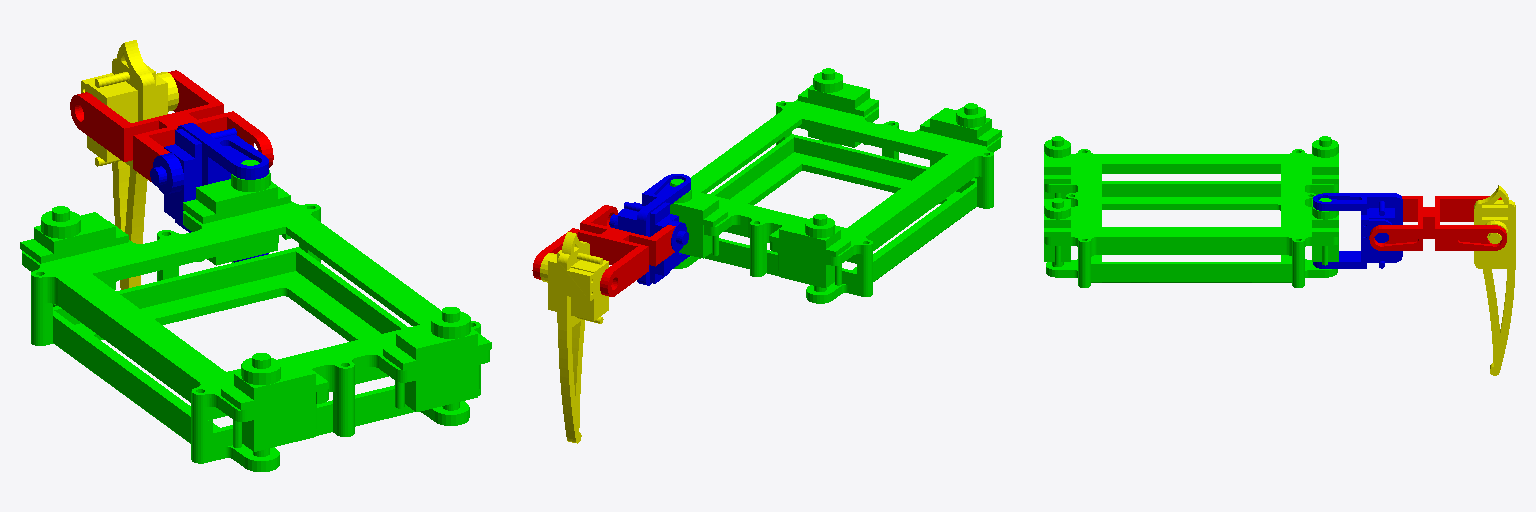
URDF robot description (spider_robot):
<?xml version="1.0"?>
<robot name="spider_robot">
    <!-- Looking from back of robot, left top is leg1
    right top is leg 2 left bottom is leg 3 and right bottom is leg 4-->
    <!-- not complete-->
    
    <gazebo reference="base_link">
        <material>Gazebo/Blue</material>
    </gazebo>

    <!-- colouring for leg 1 starts-->
    <gazebo reference="up_1">
        <material>Gazebo/Red</material>
    </gazebo>
    <gazebo reference="mid_1">
        <material>Gazebo/Yellow</material>
    </gazebo>
    <gazebo reference="low_1">
        <material>Gazebo/Green</material>
        <mu1>1</mu1>
        <mu2>1</mu2>
    </gazebo>

    <!-- colouring for leg 2 starts-->
    <gazebo reference="up_2">
        <material>Gazebo/Red</material>
    </gazebo>
    <gazebo reference="mid_2">
        <material>Gazebo/Yellow</material>
    </gazebo>
    <gazebo reference="low_2">
        <material>Gazebo/Green</material>
        <mu1>1</mu1>
        <mu2>1</mu2>
    </gazebo>

    <!-- colouring for leg 3 starts-->
    <gazebo reference="up_3">
        <material>Gazebo/Red</material>
    </gazebo>
    <gazebo reference="mid_3">
        <material>Gazebo/Yellow</material>
    </gazebo>
    <gazebo reference="low_3">
        <material>Gazebo/Green</material>
        <mu1>1</mu1>
        <mu2>1</mu2>
    </gazebo>

    <!-- colouring for leg 4 starts-->
    <gazebo reference="up_4">
        <material>Gazebo/Red</material>
    </gazebo>
    <gazebo reference="mid_4">
        <material>Gazebo/Yellow</material>
    </gazebo>
    <gazebo reference="low_4">
        <material>Gazebo/Green</material>
        <mu1>1</mu1>
        <mu2>1</mu2>
    </gazebo>

    <link name="base_link">
        <visual>
            <geometry>
                <mesh filename="package://spider_sim/meshes_final/body.stl"
                    scale="0.001 0.001 0.001" />
            </geometry>
            <origin rpy="0 0 0" xyz="0 0 0" />
            <material name="green">
                <color rgba="0 1 0 1" />
            </material>
        </visual>
        <collision>
            <geometry>
                <mesh filename="package://spider_sim/meshes_final/body_collsion.stl"
                    scale="0.001 0.001 0.001" />
            </geometry>
            <origin rpy="0 0 0" xyz="0 0 0" />
            <material name="green">
                <color rgba="0 1 0 1" />
            </material>
        </collision>
    </link>

    <link name="base_inertia">
        <inertial>
            <origin xyz="0.0 0.0 0.0" rpy="0.0 0.0 0.0" />
            <mass value="0.01" />
            <inertia ixx="0.001" ixy="0.001" ixz="0.001" iyy="0.001" iyz="0.001" izz="0.001" />
        </inertial>
    </link>
    <joint name="inertia2base" type="fixed">
        <origin xyz="0.0 0.0 0.0" rpy="0.0 0.0 0.0" />
        <parent link="base_link" />
        <child link="base_inertia" />
        <axis xyz="0.0 0.0 0.0" />
    </joint>

    <!-- front leg 1 starts-->
    <link name="up_1">
        <visual>
            <geometry>
                <mesh filename="package://spider_sim/meshes_final/up_re_le.stl"
                    scale="0.001 0.001 0.001" />
            </geometry>
            <origin rpy="0 0 0" xyz="0 0 0" />
            <material name="blue">
                <color rgba="0 0 1 1" />
            </material>
        </visual>
        <collision>
            <geometry>
                <mesh filename="package://spider_sim/meshes_final/up_fr_le_collision.stl"
                    scale="0.001 0.001 0.001" />
            </geometry>
            <origin rpy="0 0 0" xyz="0 0 0" />
            <material name="blue">
                <color rgba="0 0 1 1" />
            </material>
        </collision>
        <inertial>
            <origin xyz="0.0 0.0 0.0" rpy="0.0 0.0 0.0" />
            <mass value="0.01" />
            <inertia ixx="0.001" ixy="0.001" ixz="0.001" iyy="0.001" iyz="0.001" izz="0.001" />
        </inertial>
    </link>

    <joint name="base2upleg_1" type="revolute">
        <axis xyz="0 0 1" />
        <parent link="base_link" />
        <child link="up_1" />
        <origin xyz="0.0355 0.065 0.0" rpy="0 0 0" />
        <dynamics damping="0.0" friction="0.0" />
        <limit effort="30" velocity="1.0" lower="-1.57" upper="1.57" />
    </joint>

    <transmission name="base2upleg_1_trans">
        <type>transmission_interface/SimpleTransmission</type>
        <joint name="base2upleg_1">
          <hardwareInterface>hardware_interface/EffortJointInterface</hardwareInterface>
        </joint>
        <actuator name="base2upleg_1_motor">
          <hardwareInterface>hardware_interface/EffortJointInterface</hardwareInterface>
          <mechanicalReduction>1</mechanicalReduction>
        </actuator>
      </transmission>


    <link name="mid_1">
        <visual>
            <geometry>
                <mesh filename="package://spider_sim/meshes_final/mid_fr_le.stl"
                    scale="0.001 0.001 0.001" />
            </geometry>
            <origin rpy="0 0 0" xyz="0 0 0" />
            <material name="red">
                <color rgba="1 0 0 1" />
            </material>
        </visual>
        <collision>
            <geometry>
                <mesh filename="package://spider_sim/meshes_final/mid_fr_le_collision.stl"
                    scale="0.001 0.001 0.001" />
            </geometry>
            <origin rpy="0 0 0" xyz="0 0 0" />
            <material name="red">
                <color rgba="1 0 0 1" />
            </material>
        </collision>

        <inertial>
            <origin xyz="0.0 0.0 0.0" rpy="0.0 0.0 0.0" />
            <mass value="0.01" />
            <inertia ixx="0.001" ixy="0.001" ixz="0.001" iyy="0.001" iyz="0.001" izz="0.001" />
        </inertial>

    </link>
    <joint name="mleg2upleg_1" type="revolute">
        <axis xyz="1 0 0" />
        <parent link="up_1" />
        <child link="mid_1" />
        <origin xyz="0.017 0.0274 -0.00825" rpy="0 0 0" />
        <dynamics damping="0.0" friction="0.0" />
        <limit effort="30" velocity="1.0" lower="-1.57" upper="1.57" />
    </joint>

    <transmission name="mleg2upleg_1_trans">
        <type>transmission_interface/SimpleTransmission</type>
        <joint name="mleg2upleg_1">
          <hardwareInterface>hardware_interface/EffortJointInterface</hardwareInterface>
        </joint>
        <actuator name="mleg2upleg_1_motor">
          <hardwareInterface>hardware_interface/EffortJointInterface</hardwareInterface>
          <mechanicalReduction>1</mechanicalReduction>
        </actuator>
      </transmission>


  <link name="low_1">
    <visual>
      <geometry>
        <mesh filename="package://spider_sim/meshes_final/low_fr_le.stl" scale="0.001 0.001 0.001" />
      </geometry>
      <origin rpy="0 0 0" xyz="0 0 0" />
      <material name="yellow">
        <color rgba="1 1 0 1" />
      </material>
    </visual>
    <collision>
      <geometry>
        <mesh filename="package://spider_sim/meshes_final/low_fr_le_collision.stl" scale="0.001 0.001 0.001" />
      </geometry>
      <origin rpy="0 0 0" xyz="0 0 0" />
      <material name="yellow">
        <color rgba="1 1 0 1" />
      </material>
    </collision>
    <inertial>
      <origin xyz="0.0 0.0 0.0" rpy="0.0 0.0 0.0" />
      <mass value="0.01" />
      <inertia ixx="0.001" ixy="0.001" ixz="0.001" iyy="0.001" iyz="0.001" izz="0.001" />
    </inertial>
  </link>
  <joint name="mleg2lleg_1" type="revolute">
    <axis xyz="1 0 0" />
    <parent link="mid_1" />
    <child link="low_1" />
    <origin xyz="0.0 0.055 0.0" rpy="0 0 0" />
    <dynamics damping="0.0" friction="0.0" />
    <limit effort="30" velocity="1.0" lower="-1.57" upper="1.57" />
  </joint>

  <transmission name="mleg2lleg_1_trans">
    <type>transmission_interface/SimpleTransmission</type>
    <joint name="mleg2lleg_1">
      <hardwareInterface>hardware_interface/EffortJointInterface</hardwareInterface>
    </joint>
    <actuator name="mleg2lleg_1_motor">
      <hardwareInterface>hardware_interface/EffortJointInterface</hardwareInterface>
      <mechanicalReduction>1</mechanicalReduction>
    </actuator>
  </transmission>


  <!-- Leg 1 completed leg 4 starts-->


</robot>

--- What the picture shows (computed from the rendered views, not written in the file) ---
3 views of the same robot in one strip: view 1: azimuth 30°, elevation 25°; view 2: azimuth 150°, elevation 25°; view 3: azimuth 270°, elevation 25° (orthographic).
Model spider_robot with 5 links and 4 joints (3 revolute, 1 fixed), rooted at base_link, posed all joints at 0.
Visible links, largest first — view 1: base_link, mid_1, low_1, up_1; view 2: base_link, low_1, mid_1, up_1; view 3: base_link, mid_1, low_1, up_1.
Link boxes in pixels (x1,y1,x2,y2): base_link: (20,160,491,471); mid_1: (70,70,273,181); low_1: (81,40,178,289); up_1: (150,123,268,262); base_link: (670,68,1002,303); low_1: (540,232,608,443); mid_1: (532,205,675,296); up_1: (609,174,690,285); base_link: (1044,136,1338,287); mid_1: (1369,196,1506,250); low_1: (1474,185,1515,375); up_1: (1313,193,1402,268).
Bounding box of the posed robot: 0.1102 × 0.2289 × 0.1003 m (x, y, z).
4 mesh visuals loaded from 4 distinct referenced files (4 binary STL).